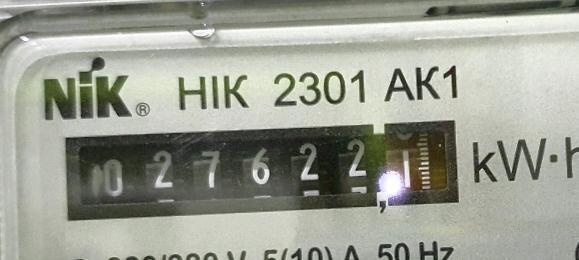0: (100, 155, 126, 198)
1: (397, 146, 415, 190)
2: (295, 140, 321, 182), (150, 148, 175, 191), (345, 136, 369, 178)
6: (248, 145, 271, 186)
7: (199, 148, 223, 191)
screen: (52, 109, 472, 227)
